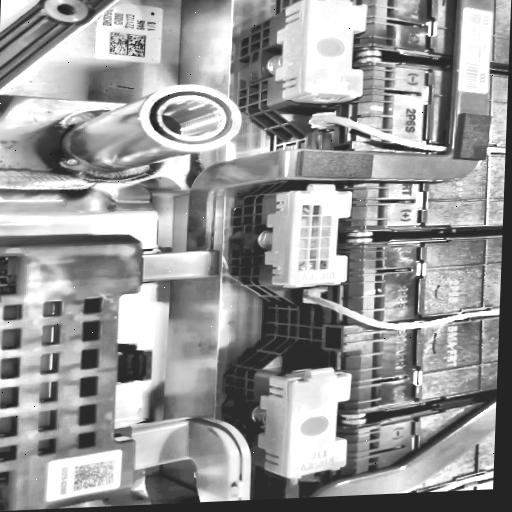busbar: (138, 0, 499, 287), (303, 400, 496, 497), (120, 413, 255, 503)
high_volt_cable: (302, 110, 506, 161), (300, 293, 500, 336)
